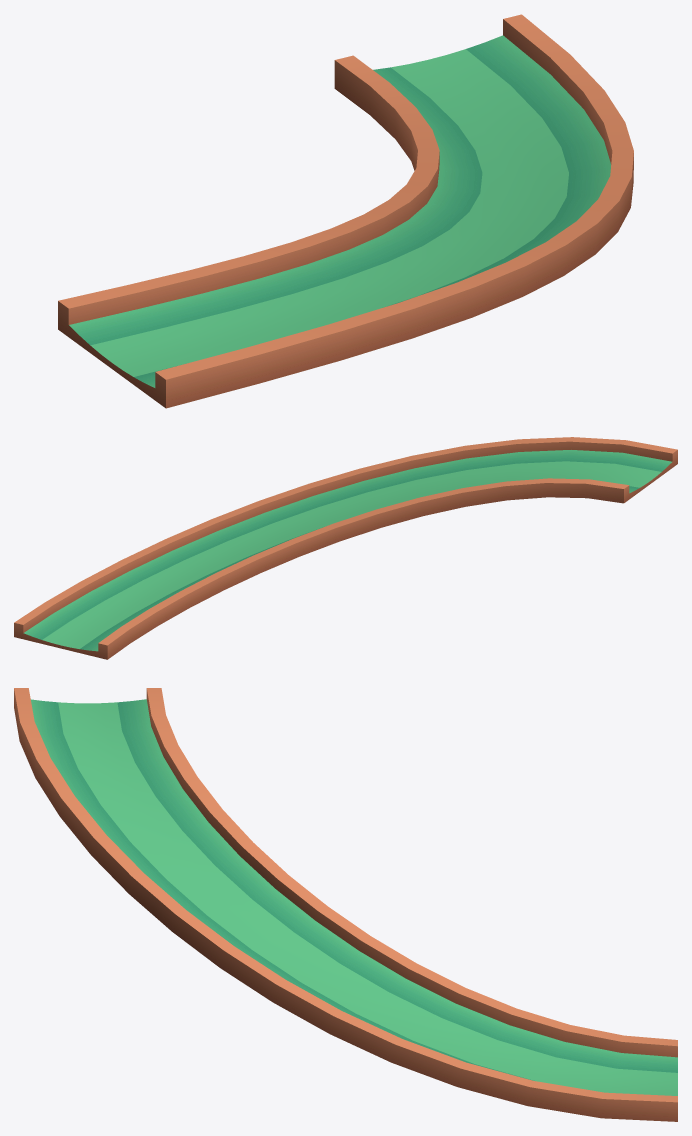
File: spline-concave-corner-large-ramp.glb
The picture shows the model from 3 angles, top to bottom: view 1: azimuth 30°, elevation 25°; view 2: azimuth 150°, elevation 25°; view 3: azimuth 270°, elevation 25°; orthographic projection. The views are drawn at different scales.
Parts seen in each view (by area): view 1: spline-concave-corner-large-ramp; view 2: spline-concave-corner-large-ramp; view 3: spline-concave-corner-large-ramp.
Boxes of the visible parts, x1=… form: spline-concave-corner-large-ramp: x1=58, y1=14, x2=633, y2=408; spline-concave-corner-large-ramp: x1=14, y1=437, x2=677, y2=659; spline-concave-corner-large-ramp: x1=14, y1=688, x2=677, y2=1121.
Size of the model in its own units: 4.5 by 1.15 by 4.5.
Materials: 1 (1 with a texture image).
